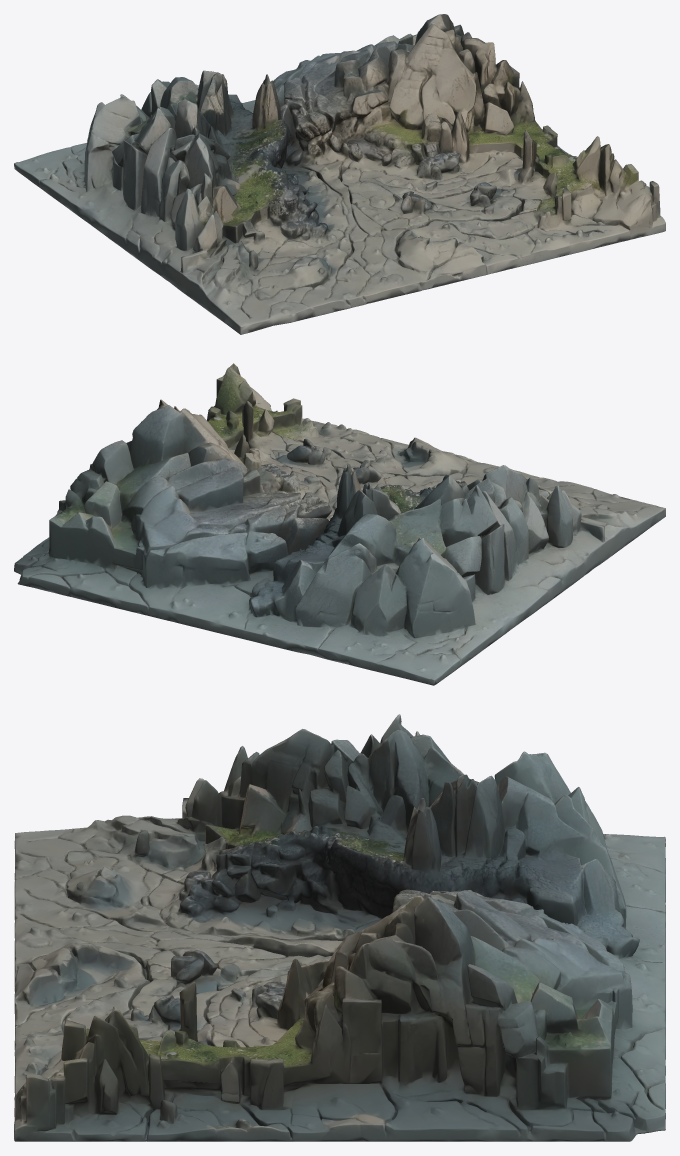
File: lanscape_01.fbx
3 views of the same model, one above another, from view 1: azimuth 30°, elevation 25°; view 2: azimuth 150°, elevation 25°; view 3: azimuth 270°, elevation 25° (orthographic). The views are drawn at different scales.
Visible parts, largest first — view 1: tripo_node_75109c03-79a6-48c0-b227-df8000e98afc; view 2: tripo_node_75109c03-79a6-48c0-b227-df8000e98afc; view 3: tripo_node_75109c03-79a6-48c0-b227-df8000e98afc.
Part boxes in pixels (x1,y1,x2,y2): tripo_node_75109c03-79a6-48c0-b227-df8000e98afc: (14, 14, 665, 334); tripo_node_75109c03-79a6-48c0-b227-df8000e98afc: (14, 363, 665, 685); tripo_node_75109c03-79a6-48c0-b227-df8000e98afc: (14, 714, 665, 1141).
Size of the model in its own units: 1 by 0.2951 by 0.9254.
